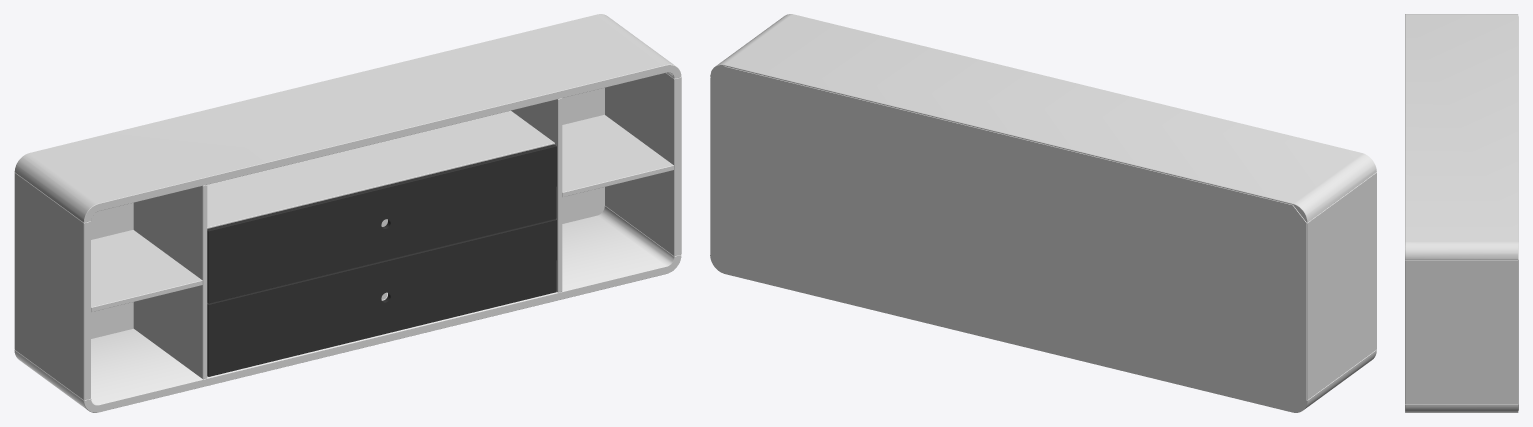
Rendered from Cabinet.FBX.
3 renders of one model, left to right at view 1: azimuth 30°, elevation 25°; view 2: azimuth 150°, elevation 25°; view 3: azimuth 270°, elevation 25°, orthographic. The views are drawn at different scales.
Visible parts, largest first — view 1: cabinet; view 2: cabinet; view 3: cabinet.
Part boxes in pixels (<box>): cabinet: <box>14,14,681,412</box>; cabinet: <box>710,14,1376,412</box>; cabinet: <box>1405,14,1518,412</box>.
Size of the model in its own units: 240 by 80.05 by 48.49.
2 materials, 2 textured.
